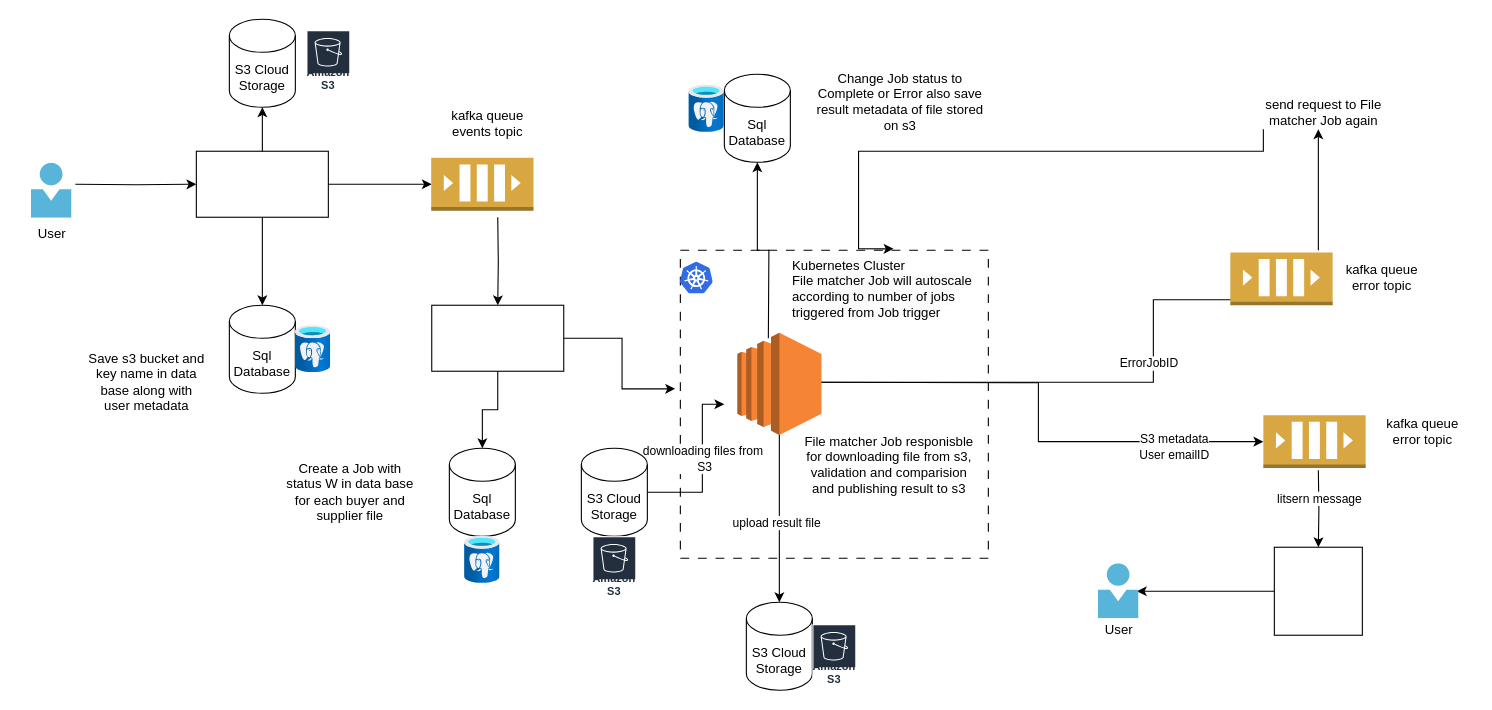
Some shapes in this 1492 by 710 pixel diagram are drawn without their labels. Here are the shapes that lost their labels. From the top down, the box of each, then its label:
(195, 150, 328, 217): File Upload Service
(431, 304, 564, 371): Job trigger kafka consumer
(736, 332, 821, 435): File matcher Service
(1273, 546, 1362, 635): Notification Service (Send email to client)
